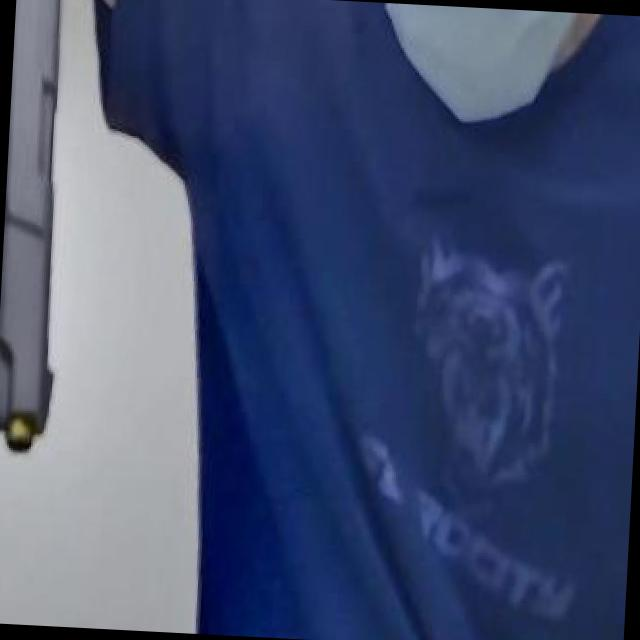Guns: (0, 0, 85, 470)
